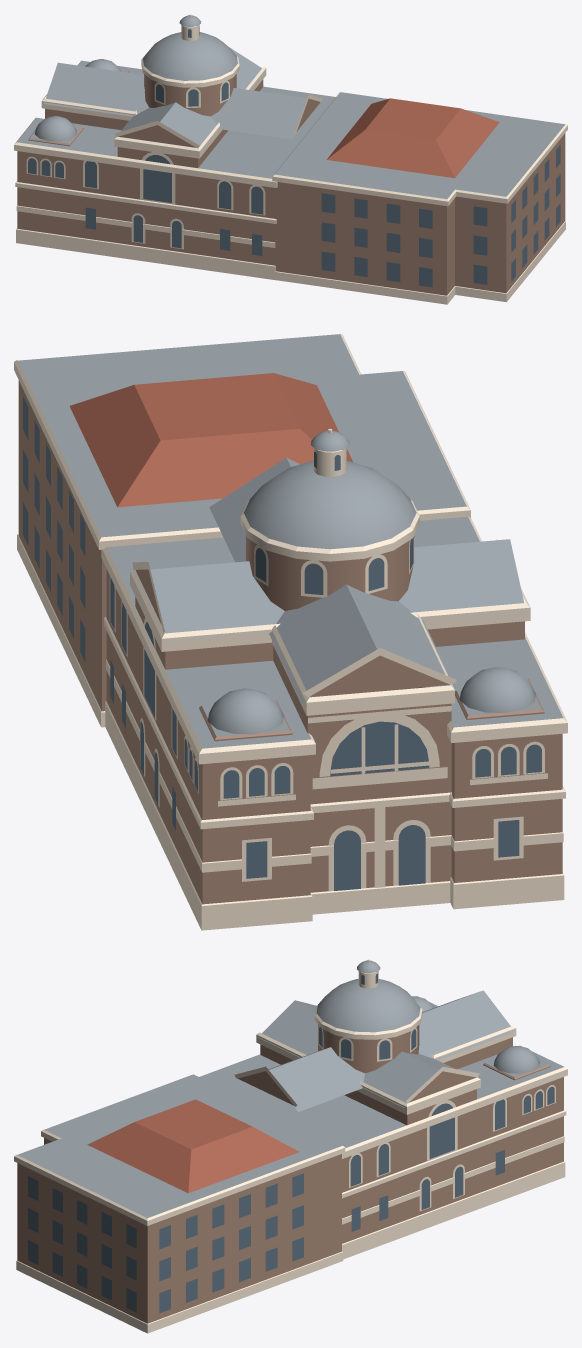
3 views of the same model, one above another, from view 1: azimuth 30°, elevation 25°; view 2: azimuth 150°, elevation 25°; view 3: azimuth 270°, elevation 25° (orthographic). The views are drawn at different scales.
Visible parts, largest first — view 1: mcglohon-theater-at-spirit-square; view 2: mcglohon-theater-at-spirit-square; view 3: mcglohon-theater-at-spirit-square.
Boxes of the visible parts, left/top/right/bottom form: mcglohon-theater-at-spirit-square: left=14, top=14, right=567, bottom=304; mcglohon-theater-at-spirit-square: left=14, top=333, right=567, bottom=930; mcglohon-theater-at-spirit-square: left=14, top=959, right=567, bottom=1333.
Size of the model in its own units: 58.63 by 27 by 59.7.
